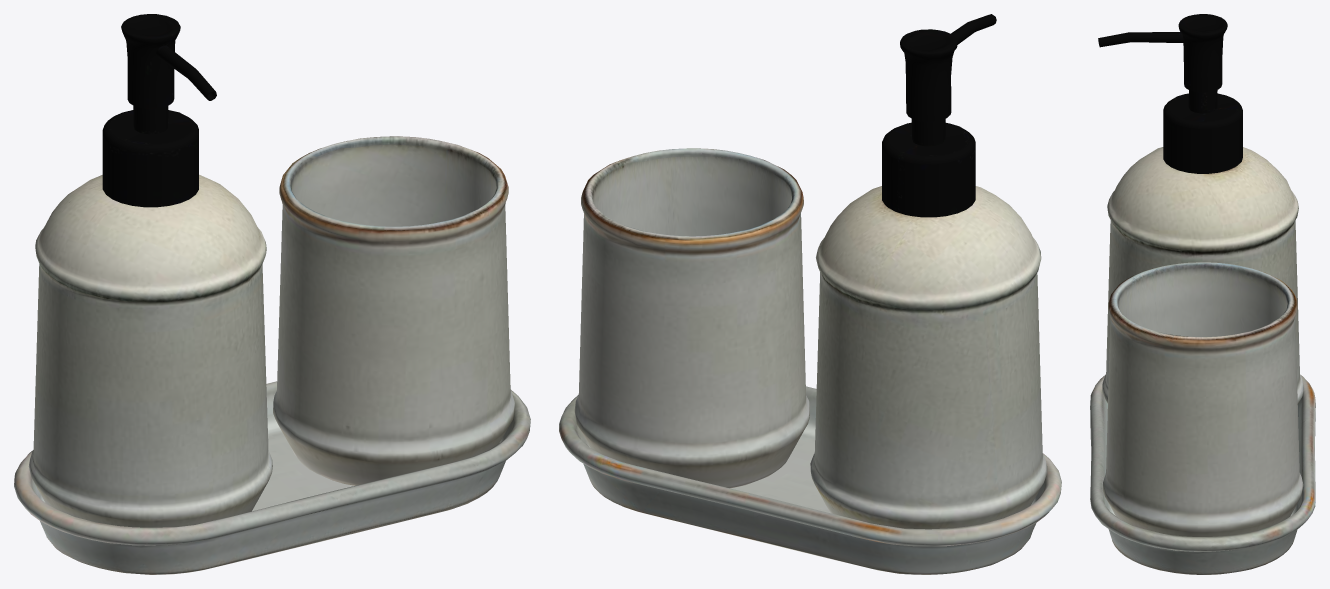
File: tvalsjon_komplet_azienkowy_3_szt_60640712.glb
3 renders of one model, left to right at view 1: azimuth 30°, elevation 25°; view 2: azimuth 150°, elevation 25°; view 3: azimuth 270°, elevation 25°, orthographic. The views are drawn at different scales.
Visible parts, largest first — view 1: tvalsjon_komplet_azienkowy_3_szt_60640712; view 2: tvalsjon_komplet_azienkowy_3_szt_60640712; view 3: tvalsjon_komplet_azienkowy_3_szt_60640712.
Part boxes in pixels (<box>): tvalsjon_komplet_azienkowy_3_szt_60640712: <box>14,14,530,574</box>; tvalsjon_komplet_azienkowy_3_szt_60640712: <box>559,14,1061,574</box>; tvalsjon_komplet_azienkowy_3_szt_60640712: <box>1090,14,1315,574</box>.
Size of the model in its own units: 0.1913 by 0.1919 by 0.0941.
1 material, 1 textured.
